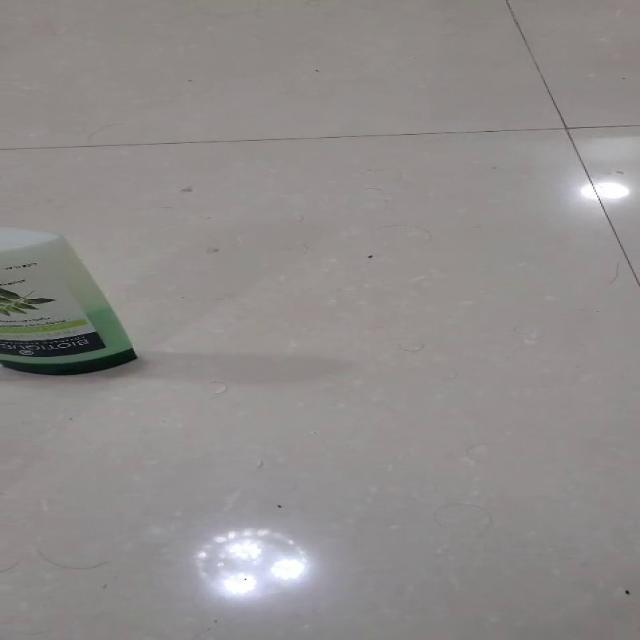plastic: (0, 226, 138, 376)
